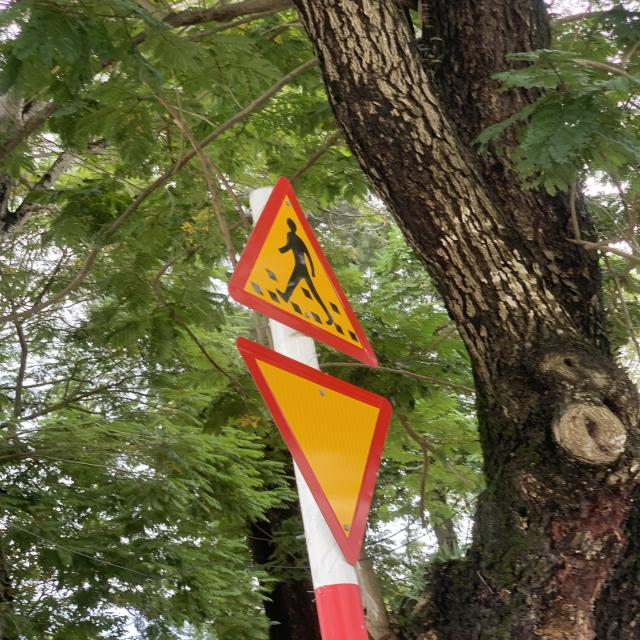Duong_Nguoi_Di_Bo_Sang_Ngang: (228, 173, 382, 369)
Gioi_Han_Toc_Do_25: (235, 338, 394, 564)
